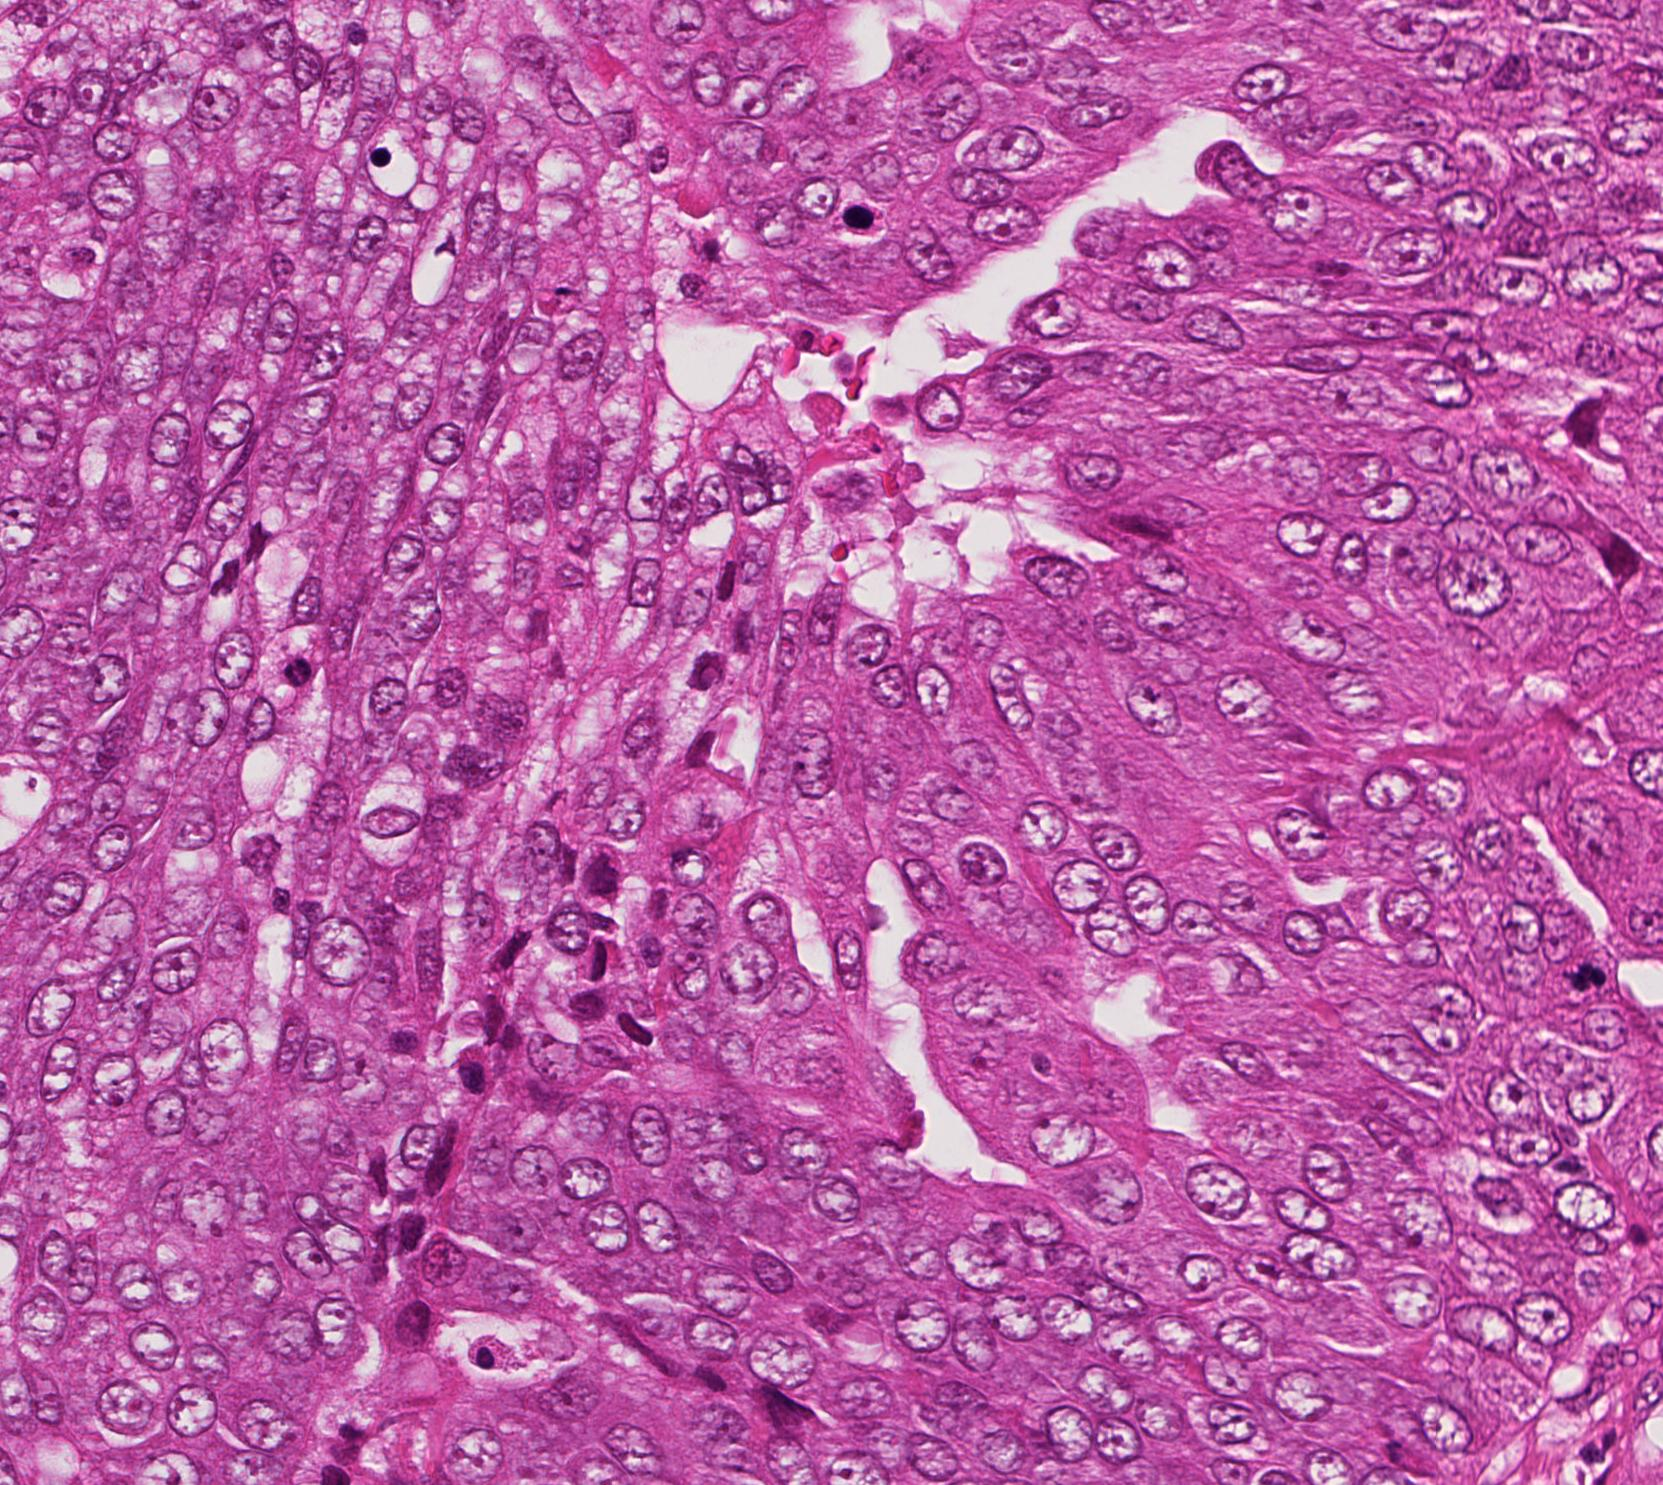mitosis: (1558, 935, 1619, 995)
